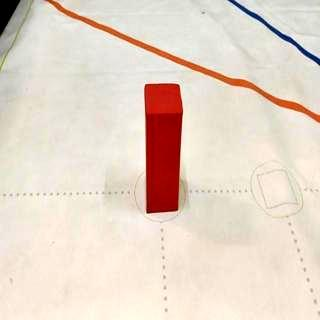redbox: (144, 82, 184, 214)
